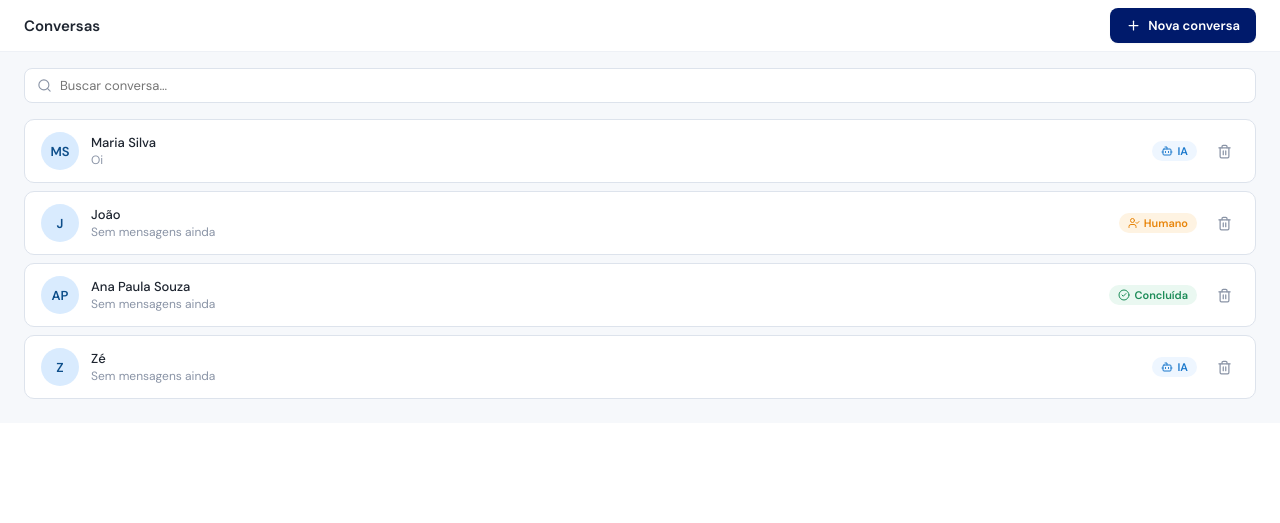
ListaConversas › exige o nome para criar uma conversa
Expected: the text "Maria Silva" is shown, [91,134,156,151]
Step 1. Click the button "Nova conversa" → [1183, 26], box [1110,8,1256,43]
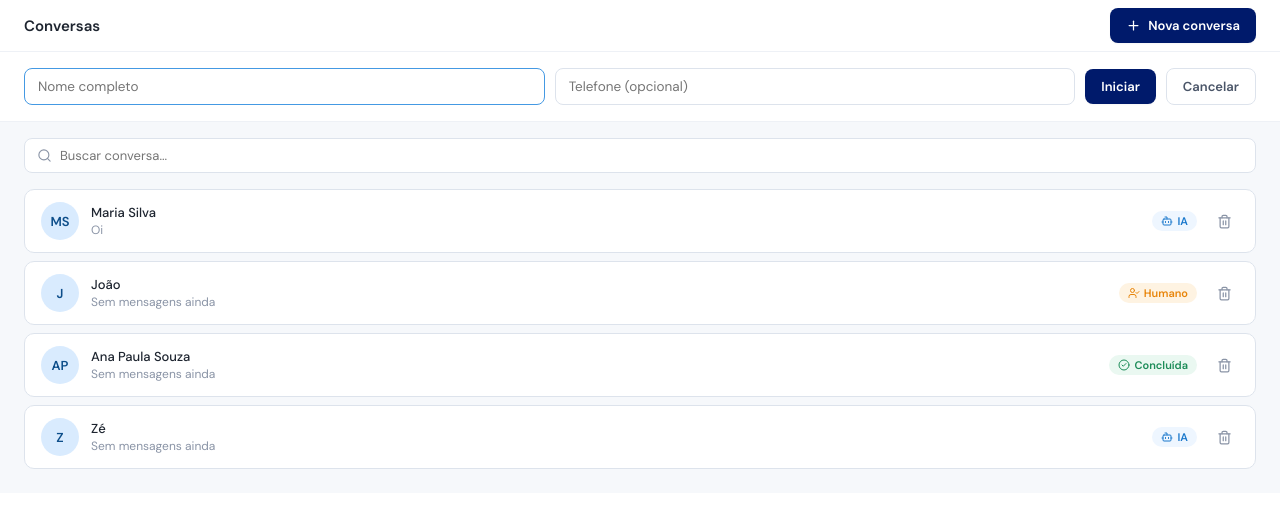
Step 2. Click the button "Iniciar" → [1121, 86], box [1085,69,1156,104]
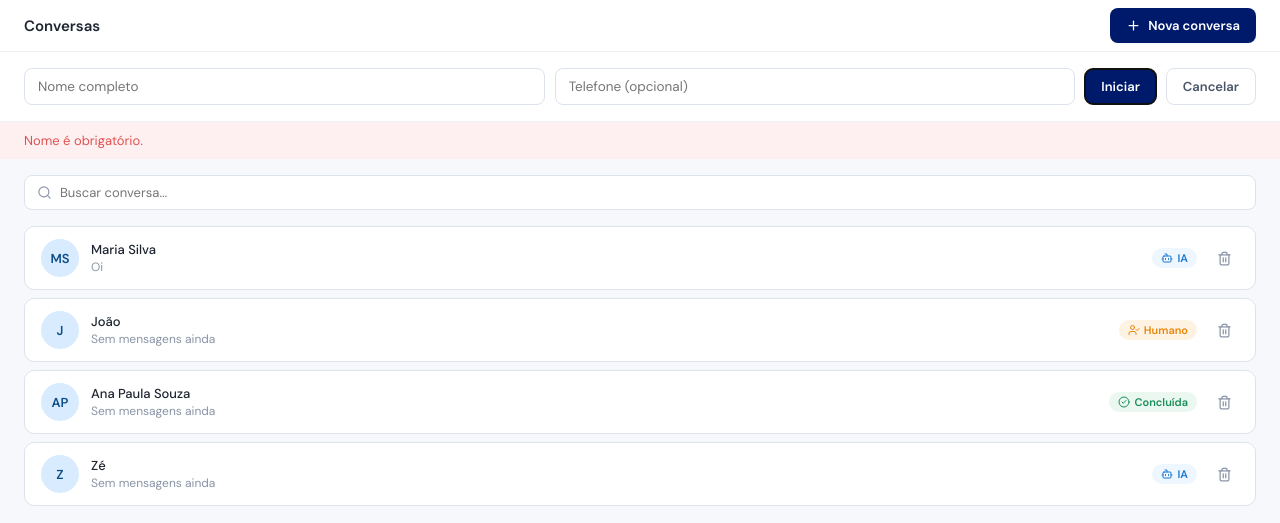
Expected: the text "Nome é obrigatório." is shown, [0,122,1279,159]
